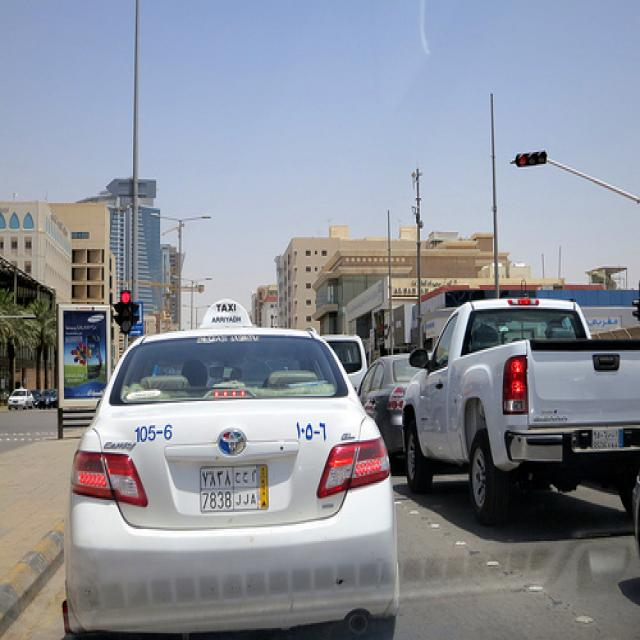license_plate: (197, 462, 271, 516)
